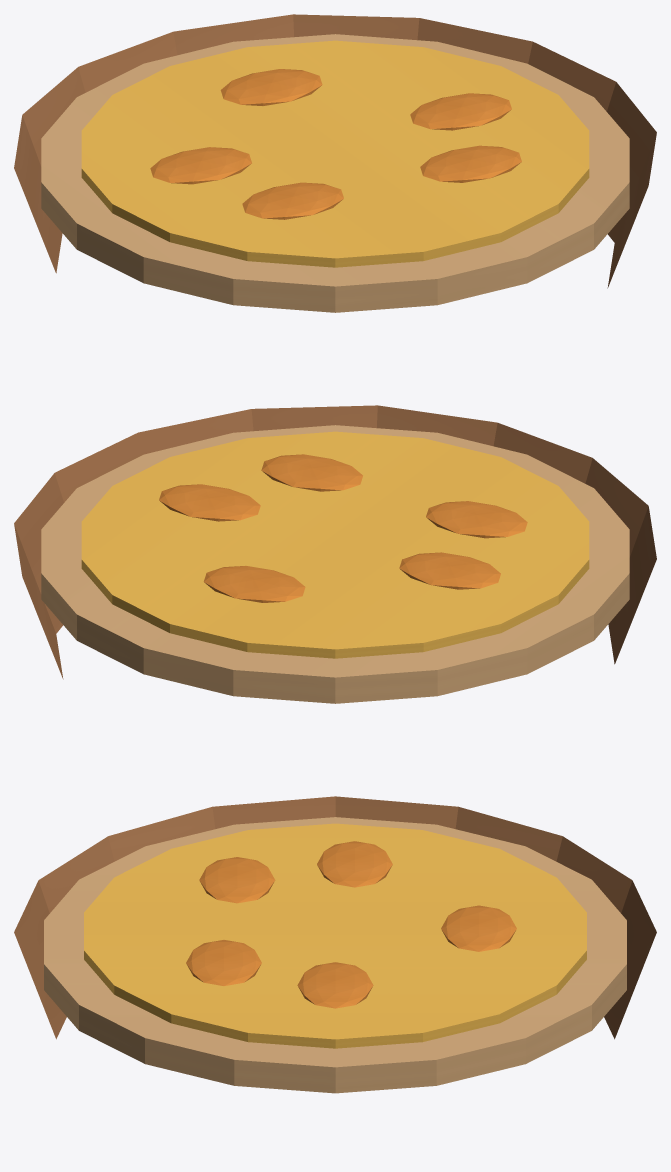
File: 3-pastel-de-nata.glb
3 views of the same model, one above another, from view 1: azimuth 30°, elevation 25°; view 2: azimuth 150°, elevation 25°; view 3: azimuth 270°, elevation 25° (orthographic).
Visible parts, largest first — view 1: custard, puff, puffdark, custardtop; view 2: custard, puff, puffdark, custardtop; view 3: custard, puff, puffdark, custardtop.
Boxes of the visible parts, x1,y1,x2,y2 form: custard: [81, 40, 589, 267]; puff: [41, 34, 629, 312]; puffdark: [14, 14, 656, 288]; custardtop: [150, 69, 521, 219]; custard: [81, 431, 589, 658]; puff: [41, 425, 629, 703]; puffdark: [14, 405, 656, 679]; custardtop: [159, 454, 527, 602]; custard: [84, 823, 586, 1048]; puff: [44, 817, 626, 1093]; puffdark: [14, 796, 656, 1039]; custardtop: [186, 841, 516, 1008].
Size of the model in its own units: 0.76 by 0.156 by 0.76.
Materials: 4 (4 with a texture image).
